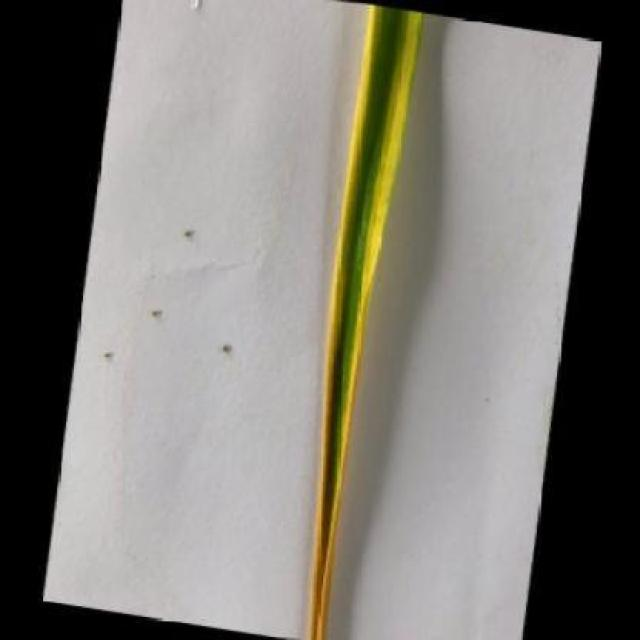Rice False Smut: (266, 6, 420, 634)
